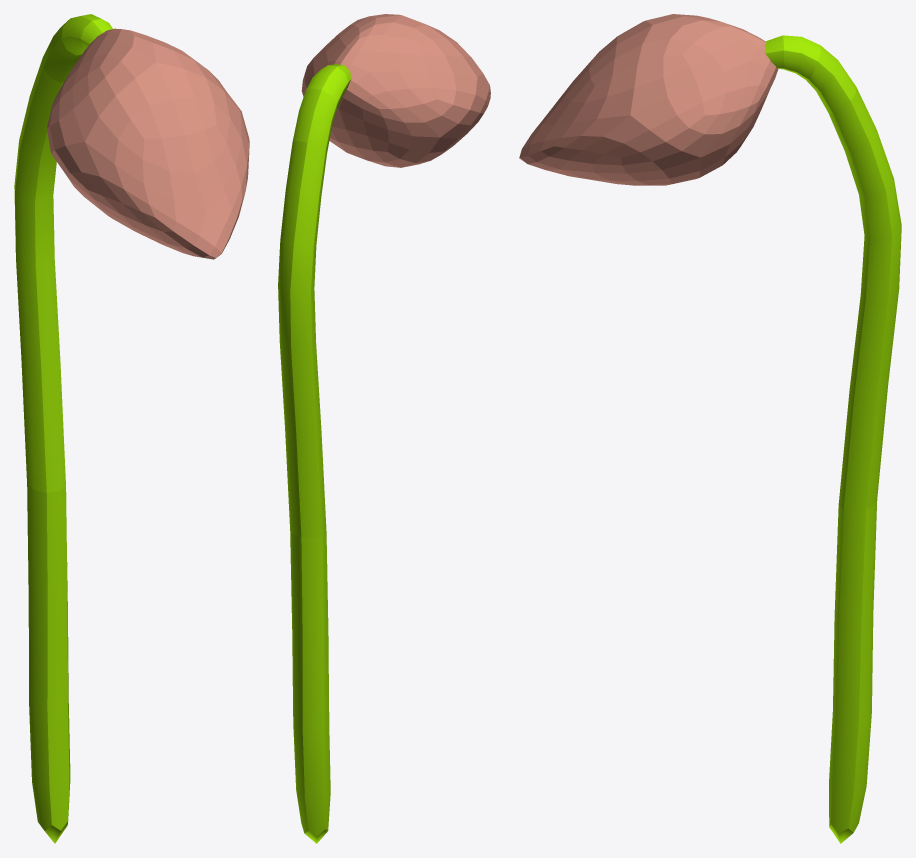
The model's file is Lima Germinating SDM.fbx.
3 renders of one model, left to right at view 1: azimuth 30°, elevation 25°; view 2: azimuth 150°, elevation 25°; view 3: azimuth 270°, elevation 25°, orthographic. The views are drawn at different scales.
Parts seen in each view (by area): view 1: Icosphere, Cylinder; view 2: Cylinder, Icosphere; view 3: Cylinder, Icosphere.
Part boxes in pixels (<box>): Icosphere: <box>47,28,249,259</box>; Cylinder: <box>14,14,112,843</box>; Cylinder: <box>278,64,351,843</box>; Icosphere: <box>301,14,490,167</box>; Cylinder: <box>764,35,901,843</box>; Icosphere: <box>519,14,778,185</box>.
Bounding box in the file's own units: 88.54 × 410 × 172.
